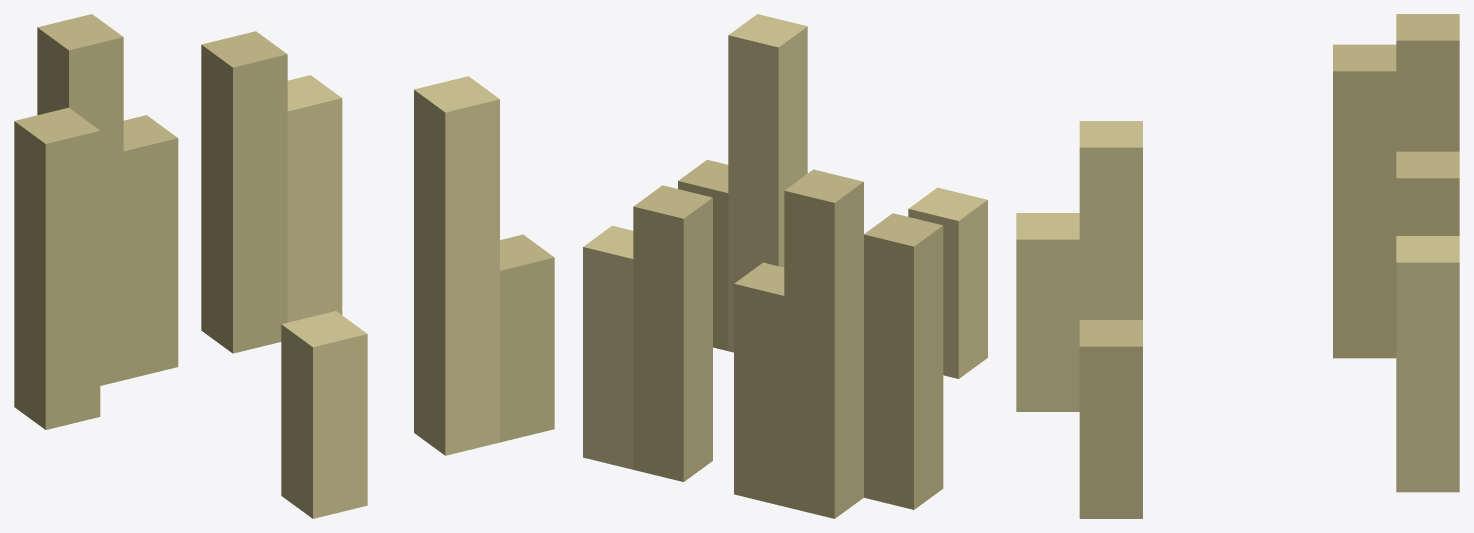
Rendered from trigo_silvestre_04.glb.
3 renders of one model, left to right at view 1: azimuth 30°, elevation 25°; view 2: azimuth 150°, elevation 25°; view 3: azimuth 270°, elevation 25°, orthographic. The views are drawn at different scales.
Parts seen in each view (by area): view 1: trigo_silvestre_04; view 2: trigo_silvestre_04; view 3: trigo_silvestre_04.
Part boxes in pixels (x1=…): trigo_silvestre_04: x1=14, y1=14, x2=554, y2=518; trigo_silvestre_04: x1=583, y1=14, x2=987, y2=518; trigo_silvestre_04: x1=1016, y1=14, x2=1459, y2=518.
Size of the model in its own units: 0.7 by 0.6 by 0.7.
